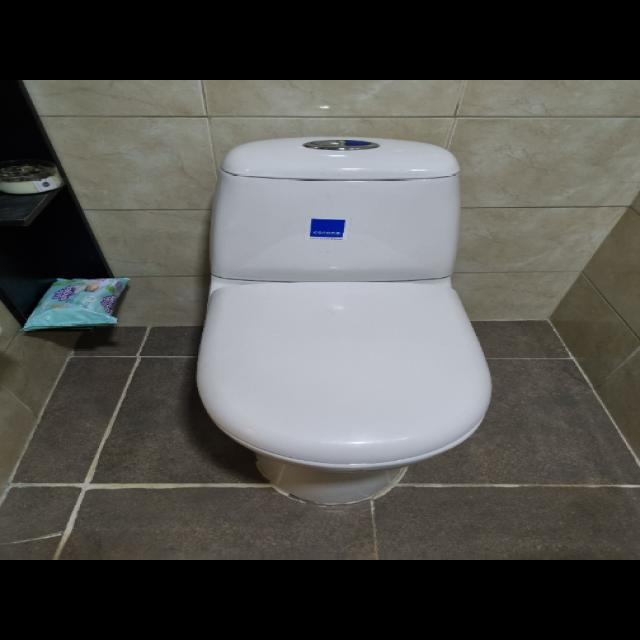toilet: (187, 130, 505, 518)
